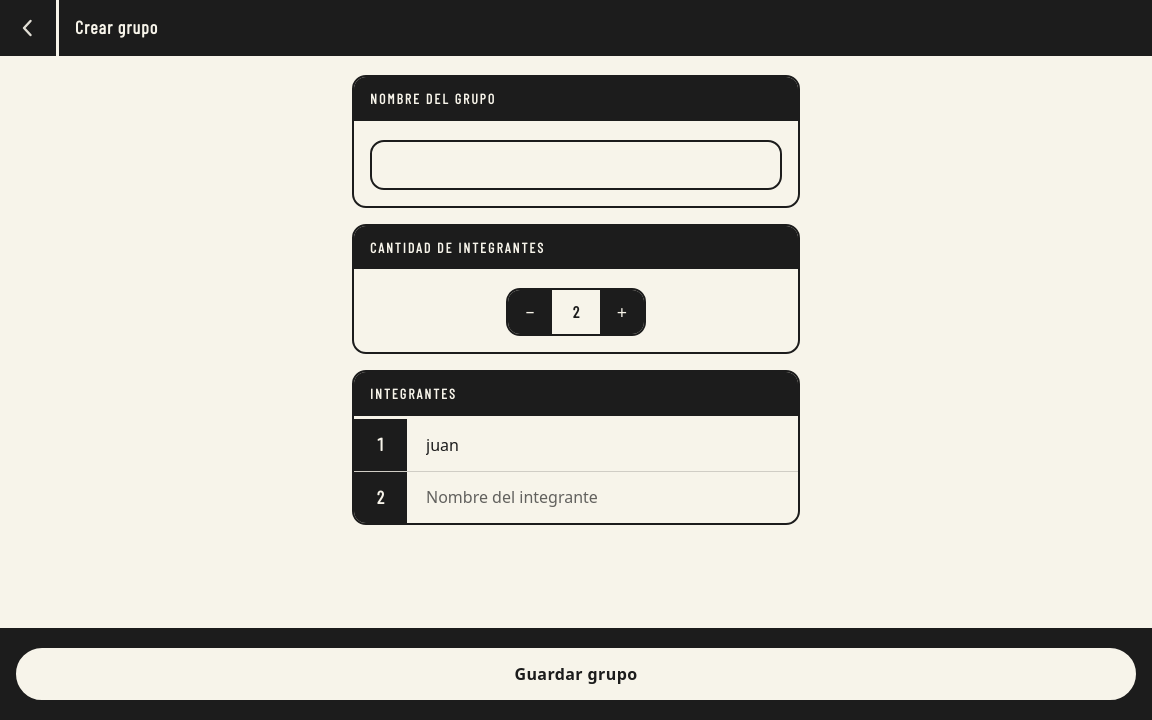
Test: CreateGroupScreen › sigue en la pantalla si no confirma la cancelación
In the field named "Nombre del grupo": (576, 165) [370, 140, 782, 190], type "Borrador"
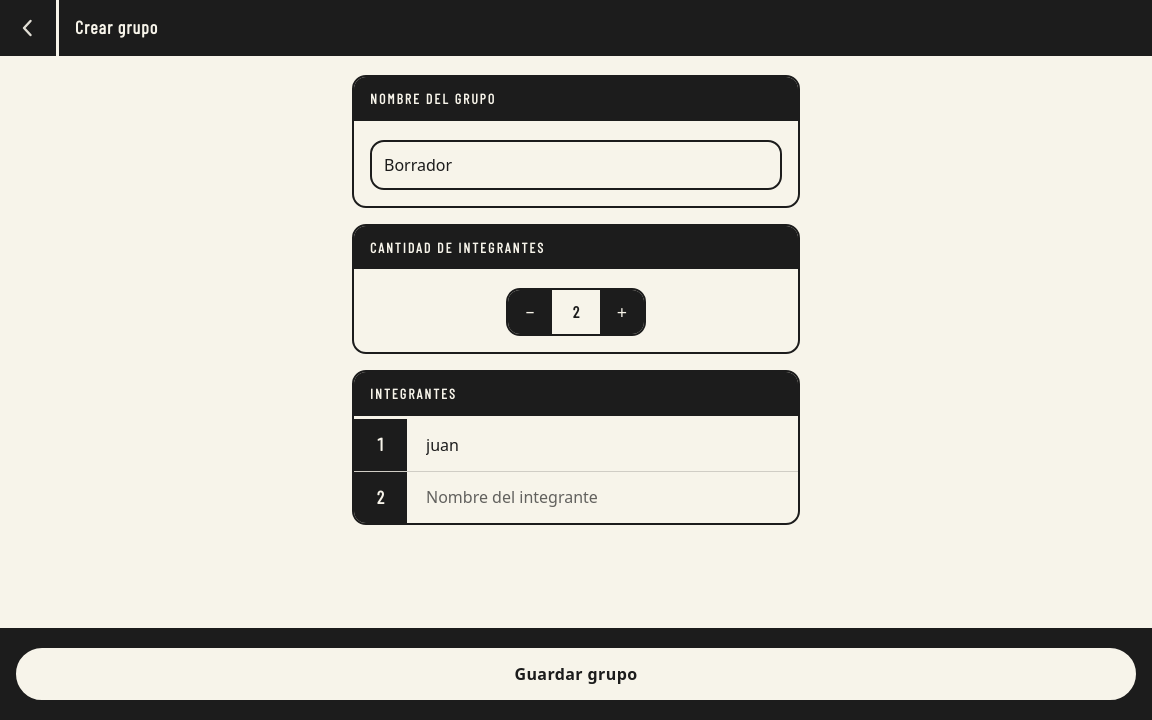
Click the button named "Volver": (28, 28) [0, 0, 56, 56]
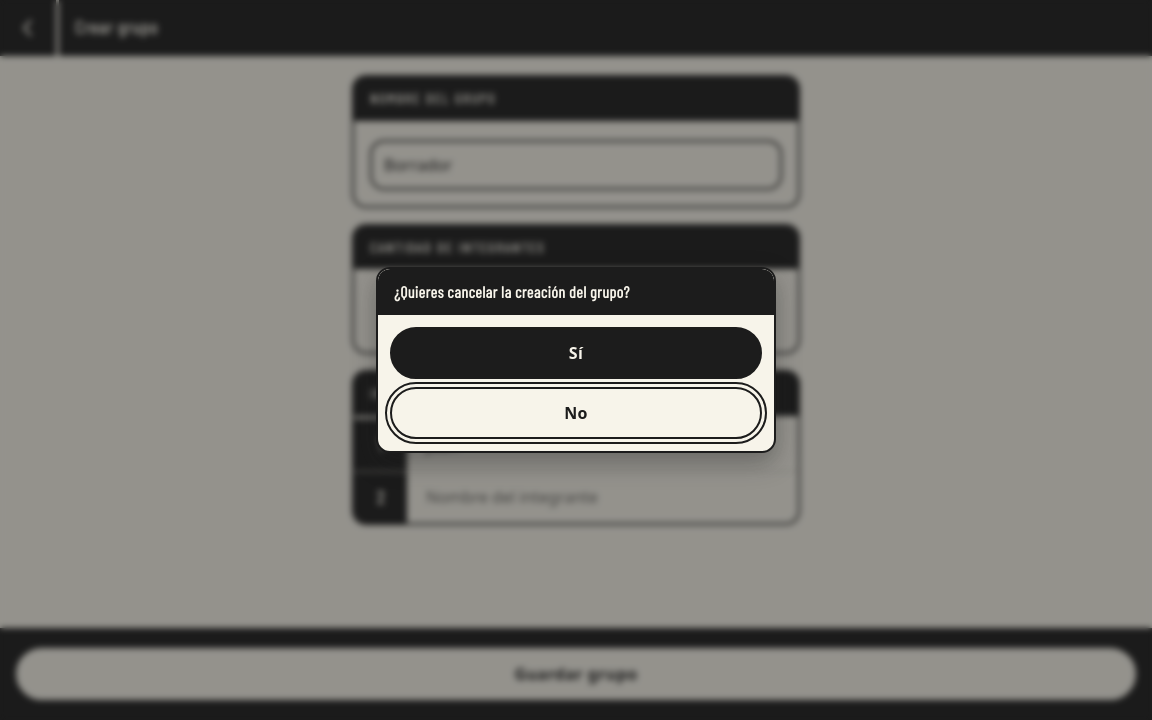
Click the button "No": (576, 413) [390, 387, 762, 439]
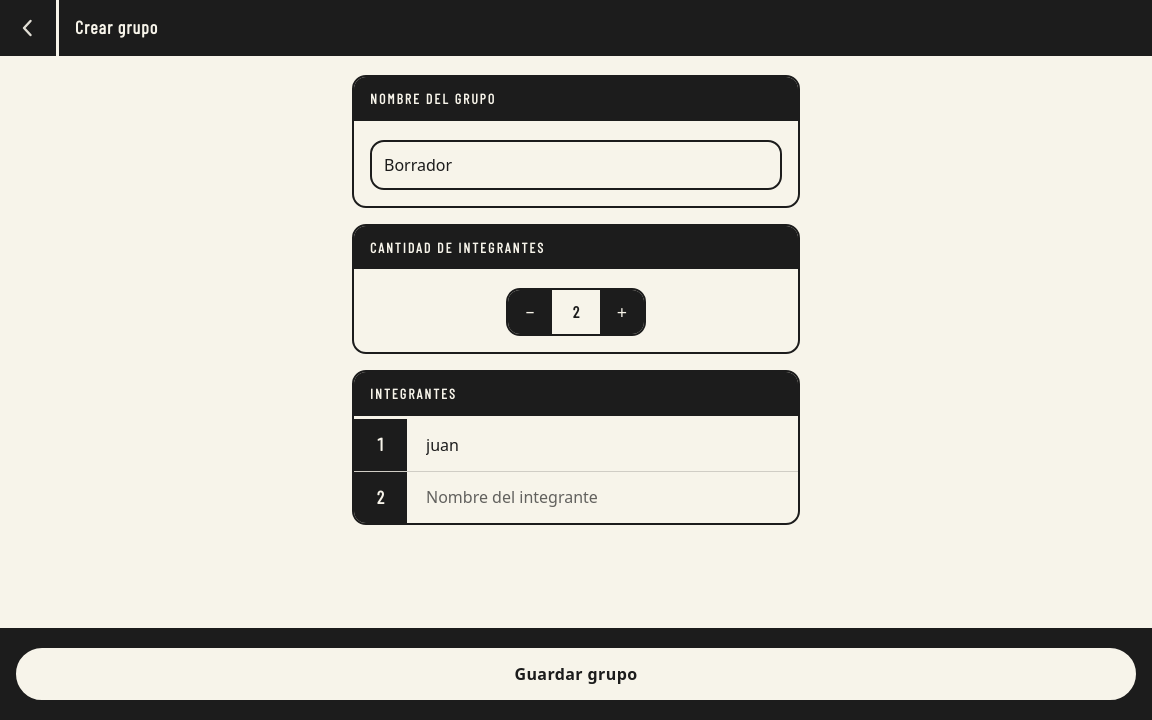
Expected: the dialog is gone
